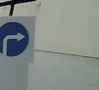right: (1, 22, 30, 59)
